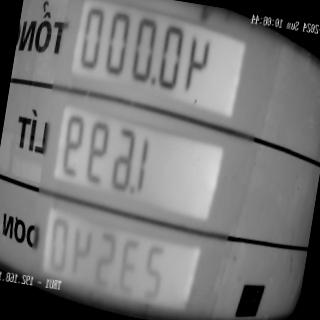screen: (25, 0, 254, 320)
